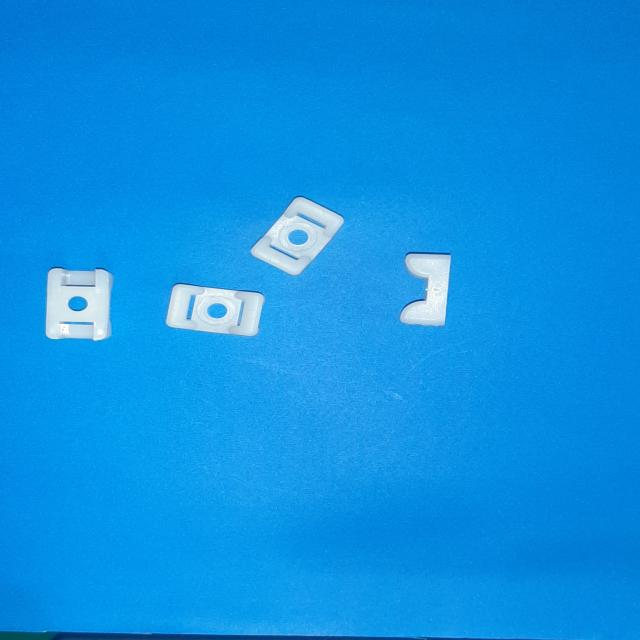false_1: (45, 268, 113, 340)
false_2: (400, 252, 450, 326)
true: (252, 196, 343, 275), (167, 284, 265, 336)
true_center: (288, 230, 308, 245), (207, 304, 227, 318)
